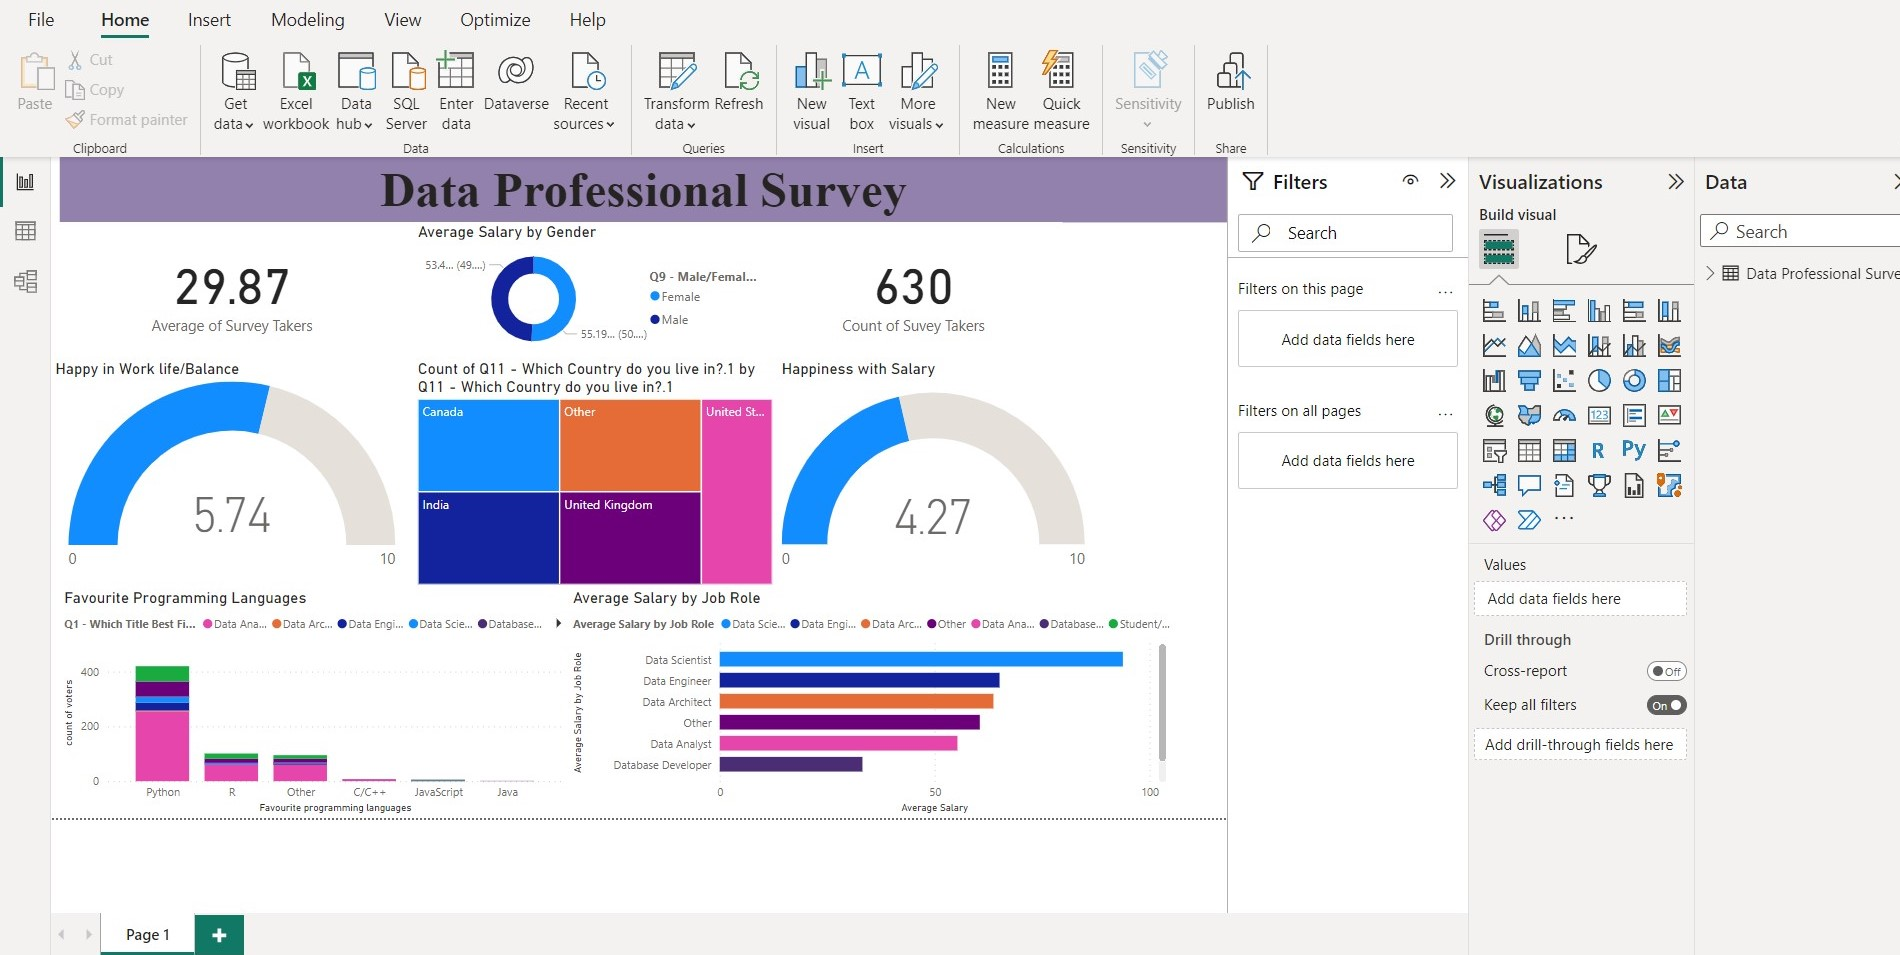

Layout of this report page (visuals, bound fields, positions):
{"tool":"powerbi","page":{"name":"Page 1","canvas":[1280,720],"ordinal":0},"visuals":[{"type":"textbox","box":[9.6,0,1270.7,71.4],"z":0},{"type":"card","fields":{"Values":["Count(Data Professional Survey.Unique ID)"]},"box":[777.1,71.4,324.3,148.6],"z":1000},{"type":"card","fields":{"Values":["Avg(Data Professional Survey.Q10 - Current Age)"]},"box":[0,71.4,394.3,148.6],"z":2000},{"type":"barChart","title":"Average Salary by Job Role","fields":{"Category":["Data Professional Survey.Q1 - Which Title Best Fits your Current Role?.1"],"Y":["Avg(Data Professional Survey.Average Salary)"],"Series":["Data Professional Survey.Q1 - Which Title Best Fits your Current Role?.1"]},"box":[562.9,470,655.7,250],"z":3000},{"type":"columnChart","title":"Favourite Programming Languages ","fields":{"Category":["Data Professional Survey.Q5 - Favorite Programming Language.1"],"Y":["CountNonNull(Data Professional Survey.Unique ID)"],"Series":["Data Professional Survey.Q1 - Which Title Best Fits your Current Role?.1"]},"box":[10,470,552.9,250],"z":4000},{"type":"treemap","fields":{"Group":["Data Professional Survey.Q11 - Which Country do you live in?.1"],"Values":["Count(Data Professional Survey.Q11 - Which Country do you live in?.1)"]},"box":[394.3,220,395.7,250],"z":5000},{"type":"gauge","title":"Happiness with Salary","fields":{"Y":["Avg(Data Professional Survey.Q6 - How Happy are you in your Current Position with the following? (Salary))"],"MaxValue":["Max(Data Professional Survey.Q6 - How Happy are you in your Current Position with the following? (Salary))"],"MinValue":["Min(Data Professional Survey.Q6 - How Happy are you in your Current Position with the following? (Salary))"]},"box":[790,220,340,250],"z":6000},{"type":"gauge","title":"Happy in Work life/Balance","fields":{"Y":["Avg(Data Professional Survey.Q6 - How Happy are you in your Current Position with the following? (Work/Life Balance))"],"MinValue":["Min(Data Professional Survey.Q6 - How Happy are you in your Current Position with the following? (Work/Life Balance))"],"MaxValue":["Max(Data Professional Survey.Q6 - How Happy are you in your Current Position with the following? (Work/Life Balance))"]},"box":[0,220,394.3,238.6],"z":7000},{"type":"donutChart","title":"Average Salary by Gender","fields":{"Category":["Data Professional Survey.Q9 - Male/Female?"],"Y":["Avg(Data Professional Survey.Average Salary)"]},"box":[394.3,71.4,382.9,148.6],"z":8000}]}

Visuals, with their boxes on the page's 1280x720 design canvas (x1, y1, x2, y2). These are canvas units, not pixel positions in the 1900x955 screenshot, which may show the page scaled, cropped or inside an application window:
textbox: {"left": 10, "top": 0, "right": 1280, "bottom": 71}
card - Count(Data Professional Survey.Unique ID): {"left": 777, "top": 71, "right": 1101, "bottom": 220}
card - Avg(Data Professional Survey.Q10 - Current Age): {"left": 0, "top": 71, "right": 394, "bottom": 220}
"Average Salary by Job Role" barChart: {"left": 563, "top": 470, "right": 1219, "bottom": 720}
"Favourite Programming Languages " columnChart: {"left": 10, "top": 470, "right": 563, "bottom": 720}
treemap - Data Professional Survey.Q11 - Which Country do you live in?.1 x Count(Data Professional Survey.Q11 - Which Country do you live in?.1): {"left": 394, "top": 220, "right": 790, "bottom": 470}
"Happiness with Salary" gauge: {"left": 790, "top": 220, "right": 1130, "bottom": 470}
"Happy in Work life/Balance" gauge: {"left": 0, "top": 220, "right": 394, "bottom": 459}
"Average Salary by Gender" donutChart: {"left": 394, "top": 71, "right": 777, "bottom": 220}
